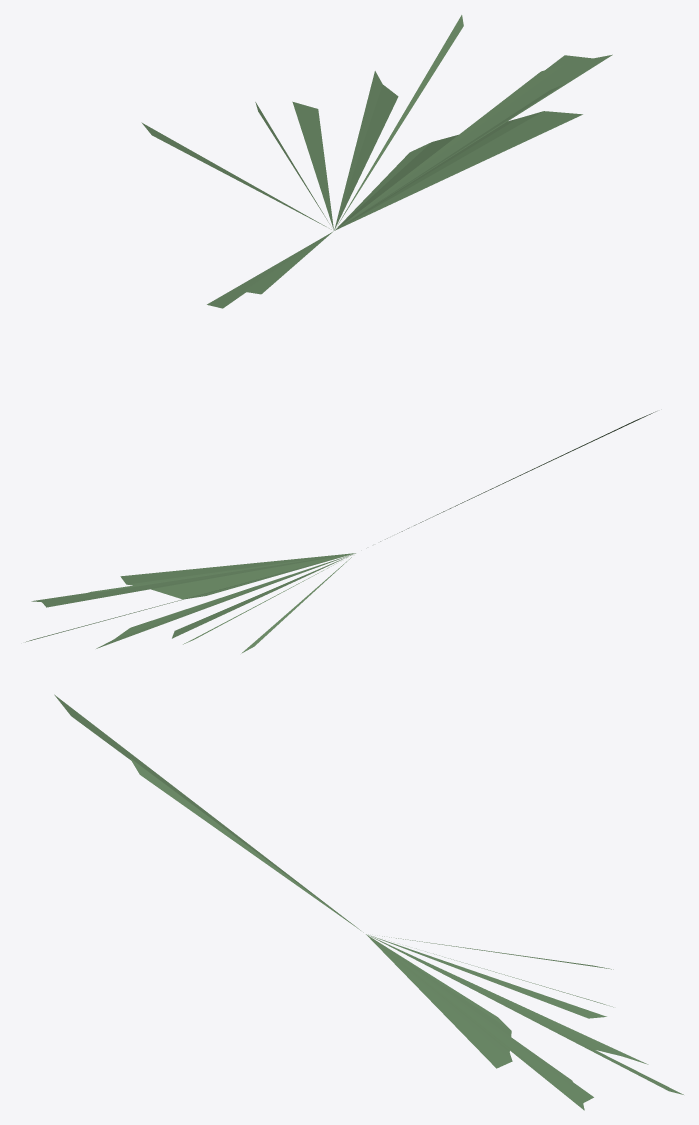
The model's file is c_1669_17832_forest.glb.
The picture shows the model from 3 angles, top to bottom: view 1: azimuth 30°, elevation 25°; view 2: azimuth 150°, elevation 25°; view 3: azimuth 270°, elevation 25°; orthographic projection. The views are drawn at different scales.
Visible parts, largest first — view 1: geometry_0; view 2: geometry_0; view 3: geometry_0.
Boxes of the visible parts, x1,y1,x2,y2 form: geometry_0: [141, 15, 612, 308]; geometry_0: [25, 411, 656, 653]; geometry_0: [54, 694, 683, 1110].
Bounding box in the file's own units: 422 × 141 × 485.
